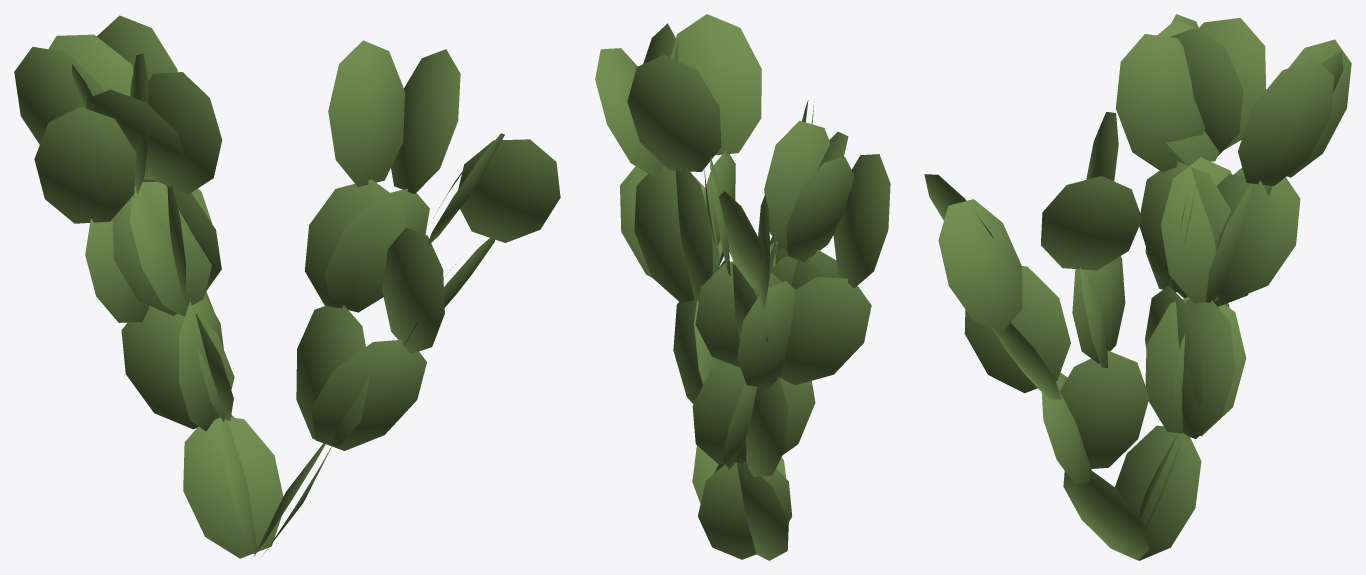
File: raquette.glb
The picture shows the model from 3 angles, left to right: view 1: azimuth 30°, elevation 25°; view 2: azimuth 150°, elevation 25°; view 3: azimuth 270°, elevation 25°; orthographic projection. The views are drawn at different scales.
Parts seen in each view (by area): view 1: raquette; view 2: raquette; view 3: raquette.
Boxes of the visible parts, x1=… form: raquette: x1=14, y1=15, x2=560, y2=558; raquette: x1=595, y1=14, x2=890, y2=560; raquette: x1=924, y1=14, x2=1351, y2=560.
Bounding box in the file's own units: 1.32 × 1.59 × 1.25.
